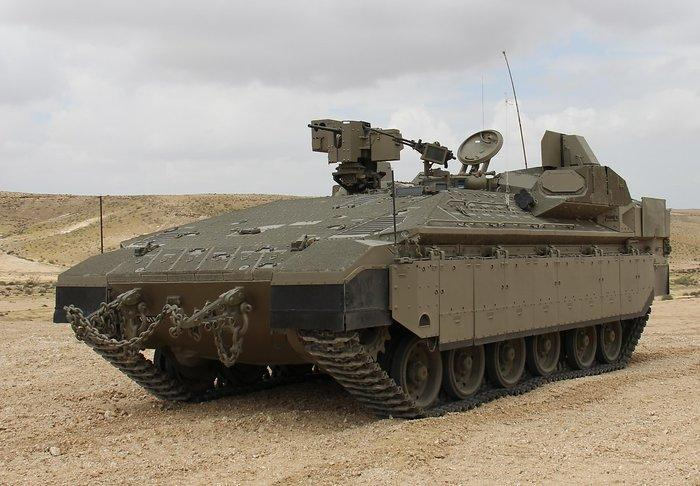MIL_IFV: (53, 116, 674, 420)
